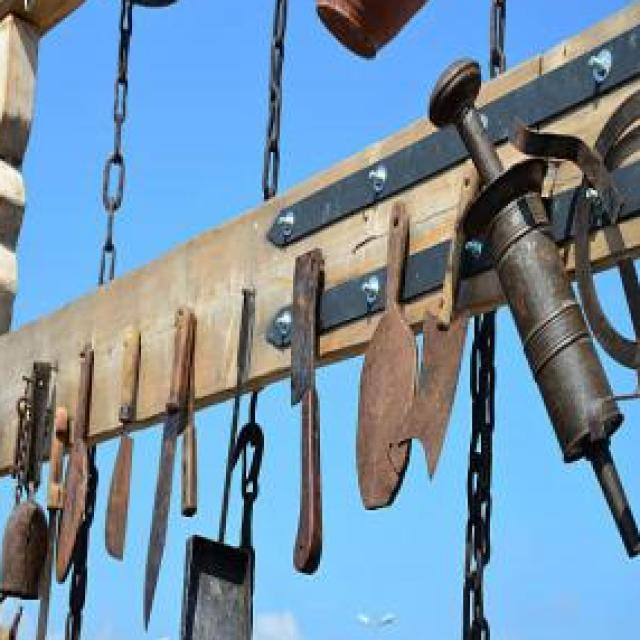knife: (143, 302, 195, 639), (293, 248, 327, 582), (108, 327, 144, 564)
